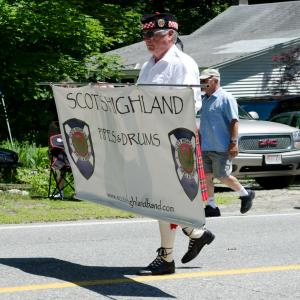Vehicle-registration-plate: (264, 154, 283, 166)
